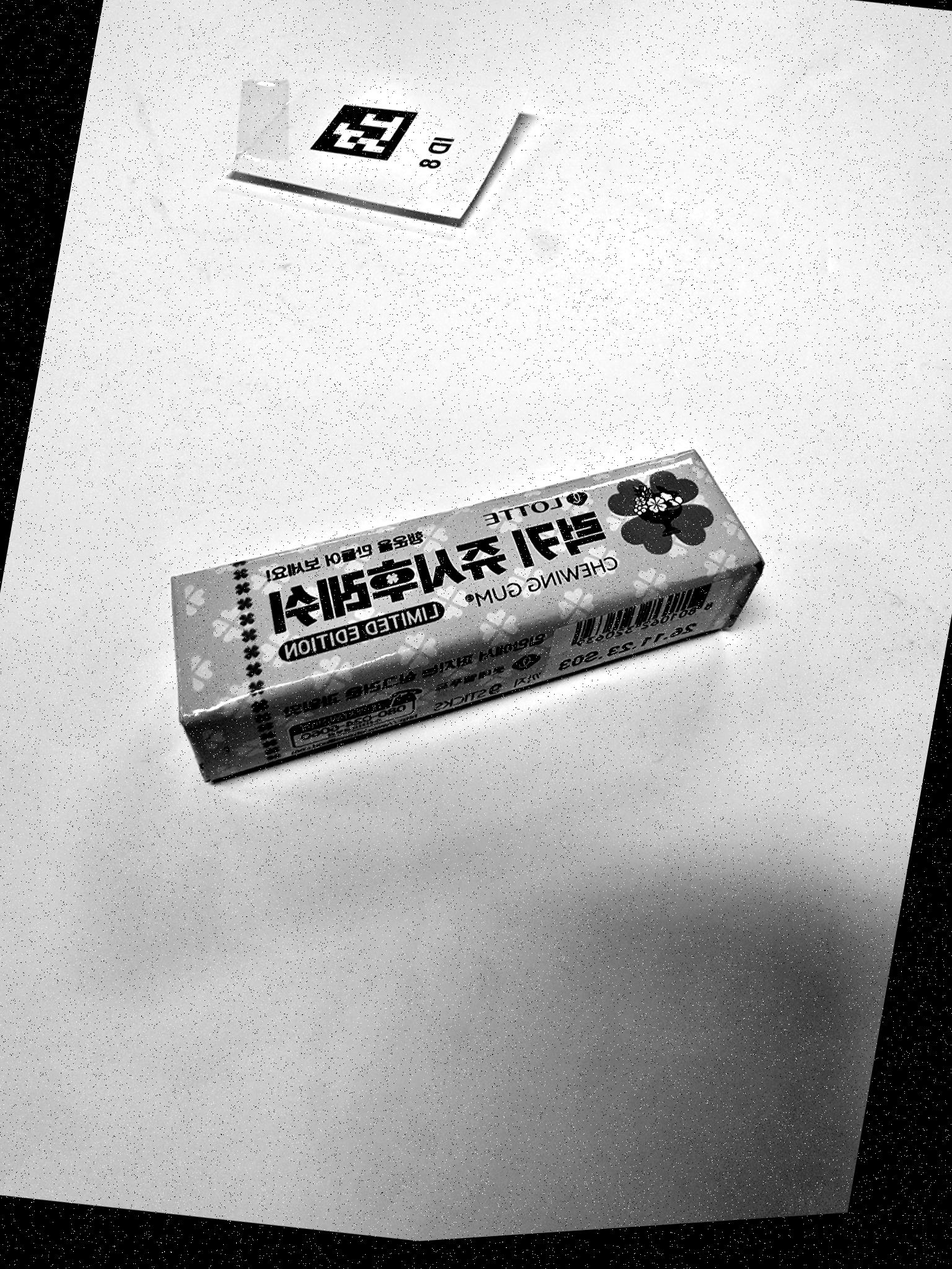gum_yellow: (172, 451, 764, 780)
